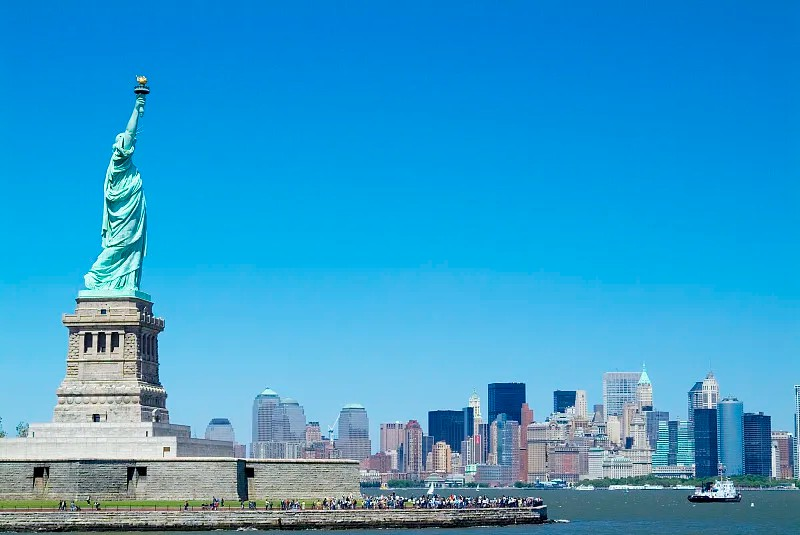SL: (52, 74, 169, 425)
